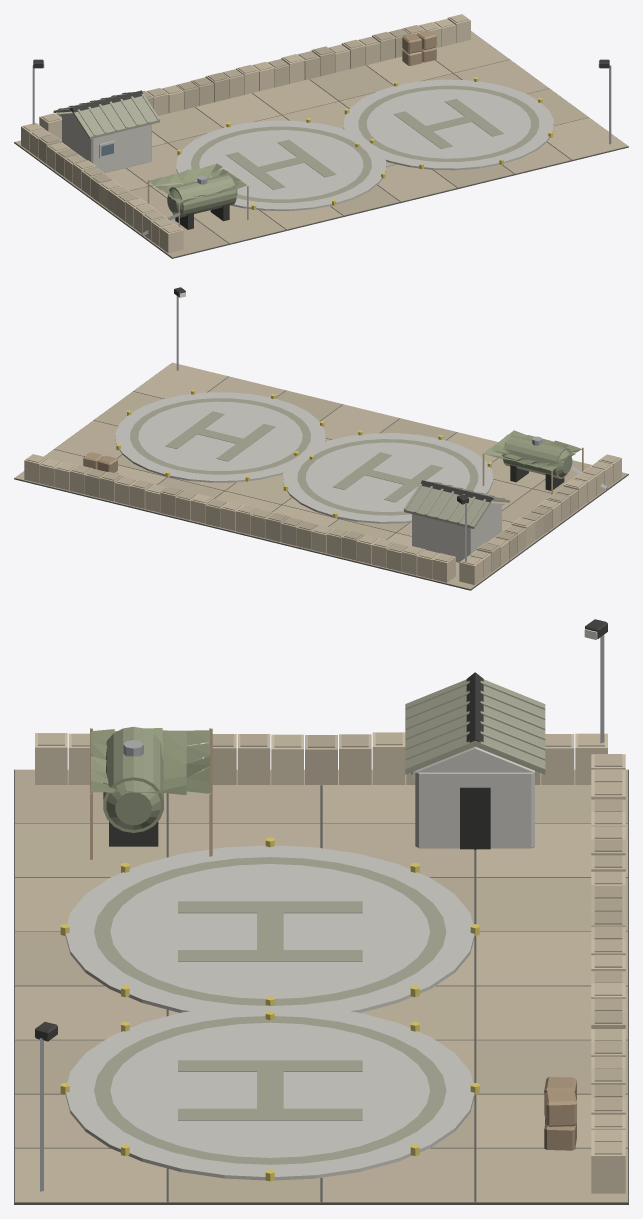
File: b_helilift.glb
The picture shows the model from 3 angles, top to bottom: view 1: azimuth 30°, elevation 25°; view 2: azimuth 150°, elevation 25°; view 3: azimuth 270°, elevation 25°; orthographic projection. The views are drawn at different scales.
Visible parts, largest first — view 1: hull; view 2: hull; view 3: hull.
Boxes of the visible parts, left/top/right/bottom form: hull: left=14, top=14, right=628, bottom=258; hull: left=14, top=287, right=628, bottom=590; hull: left=14, top=619, right=628, bottom=1204.
Bounding box in the file's own units: 30.28 × 5.28 × 18.
